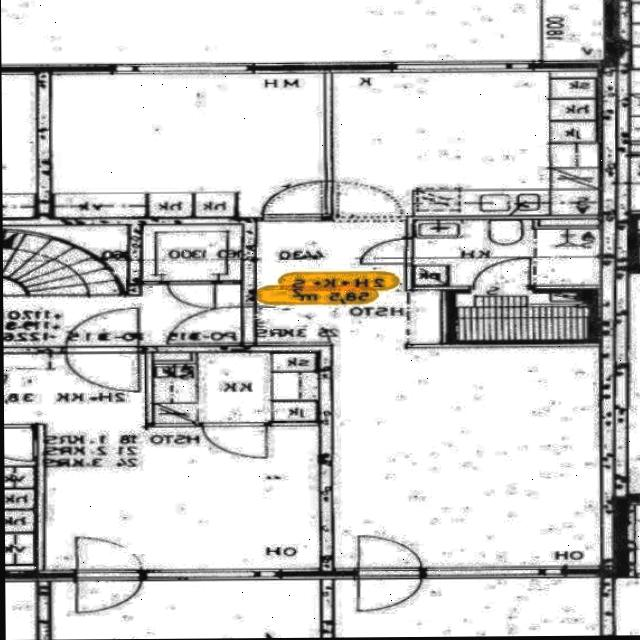room: (49, 73, 324, 218), (332, 71, 598, 217), (413, 219, 600, 286), (152, 352, 318, 424), (454, 293, 588, 340), (141, 225, 241, 281)
